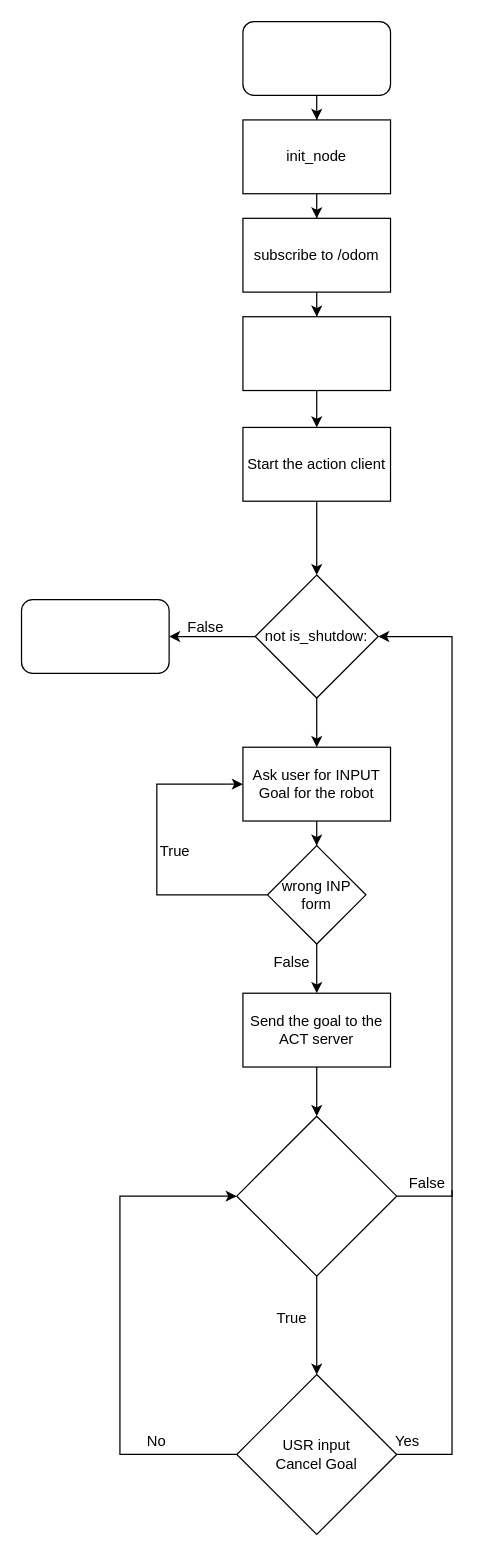
Image size: 486x1556. Some labels were removed from this diagram. Each missing label, with the box of its shape:
CLOSE application: (20, 598, 169, 673)
Goal status not SUCCEEDED: (236, 1115, 397, 1276)
publish on /custom_vel: (242, 315, 391, 391)
START: (242, 20, 391, 95)
